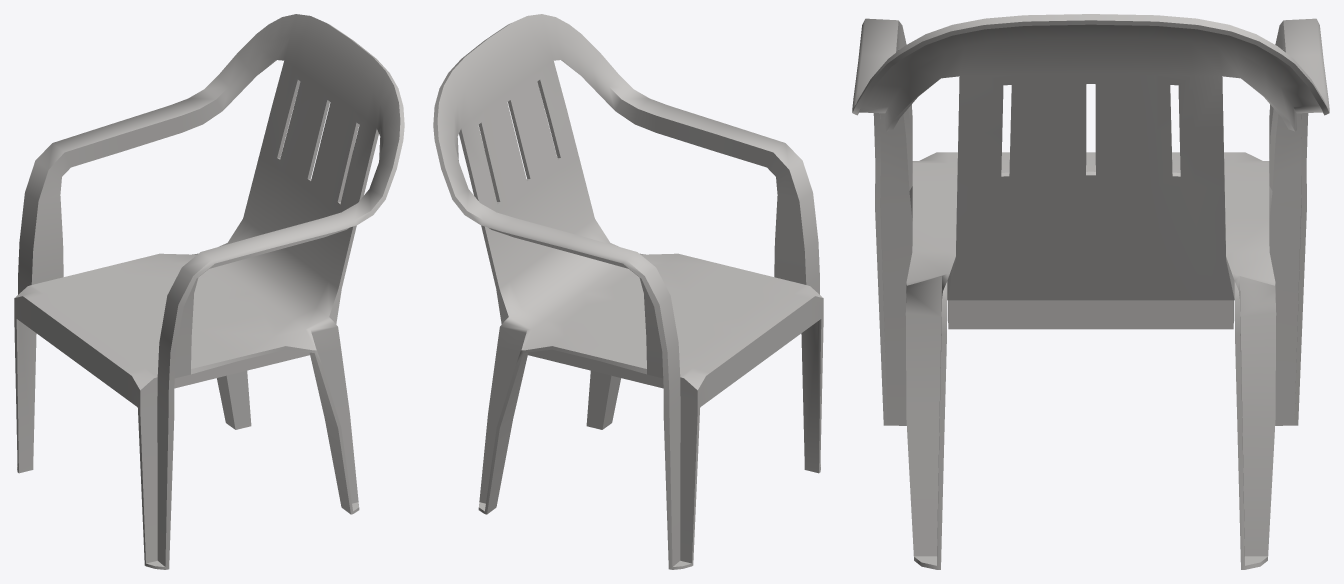
Rendered from SillaBlanca.fbx.
3 views of the same model, side by side, from view 1: azimuth 30°, elevation 25°; view 2: azimuth 150°, elevation 25°; view 3: azimuth 270°, elevation 25° (orthographic). The views are drawn at different scales.
Parts seen in each view (by area): view 1: NurbsPath.001; view 2: NurbsPath.001; view 3: NurbsPath.001.
Part boxes in pixels (x1=…): NurbsPath.001: x1=14, y1=14, x2=404, y2=569; NurbsPath.001: x1=433, y1=14, x2=823, y2=569; NurbsPath.001: x1=852, y1=14, x2=1329, y2=569.
Bounding box in the file's own units: 84.17 × 121 × 89.01.
